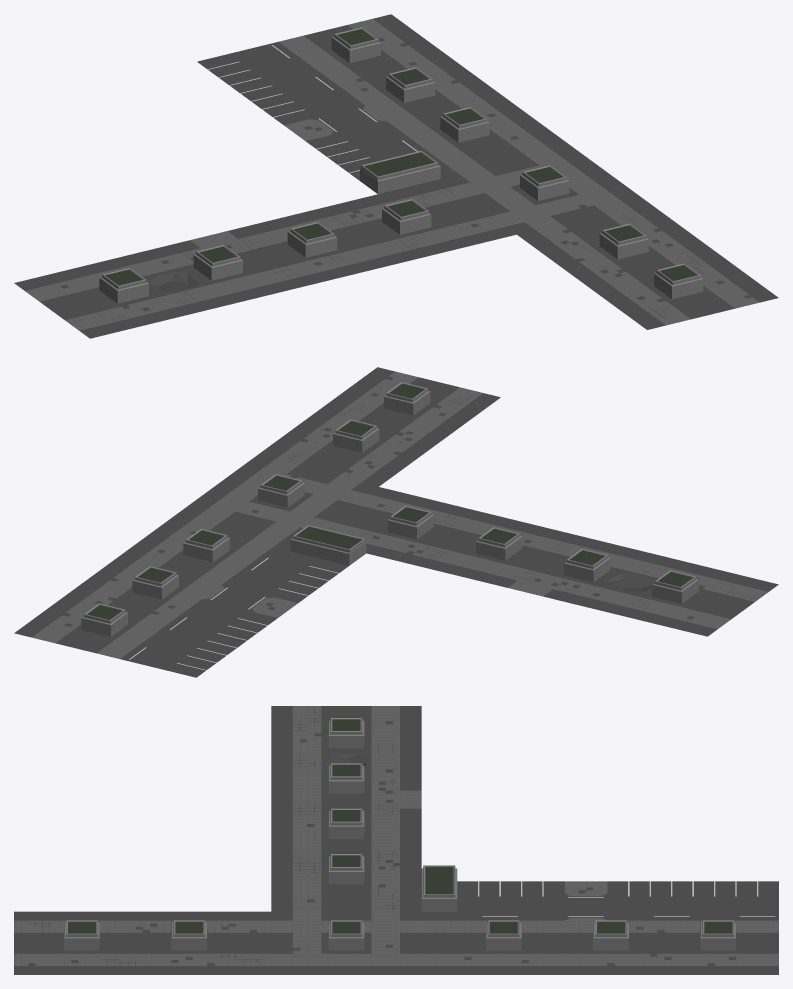
The model's file is pedestrianRoad1.fbx.
The picture shows the model from 3 angles, top to bottom: view 1: azimuth 30°, elevation 25°; view 2: azimuth 150°, elevation 25°; view 3: azimuth 270°, elevation 25°; orthographic projection. The views are drawn at different scales.
Visible parts, largest first — view 1: Cube, Cube.001; view 2: Cube, Cube.001; view 3: Cube, Cube.001.
Boxes of the visible parts, left/top/right/bottom form: Cube: left=14, top=14, right=778, bottom=338; Cube.001: left=99, top=27, right=703, bottom=303; Cube: left=14, top=367, right=778, bottom=677; Cube.001: left=81, top=382, right=698, bottom=636; Cube: left=14, top=706, right=778, bottom=974; Cube.001: left=64, top=718, right=735, bottom=950.
Bounding box in the file's own units: 8900 × 293 × 10700.
